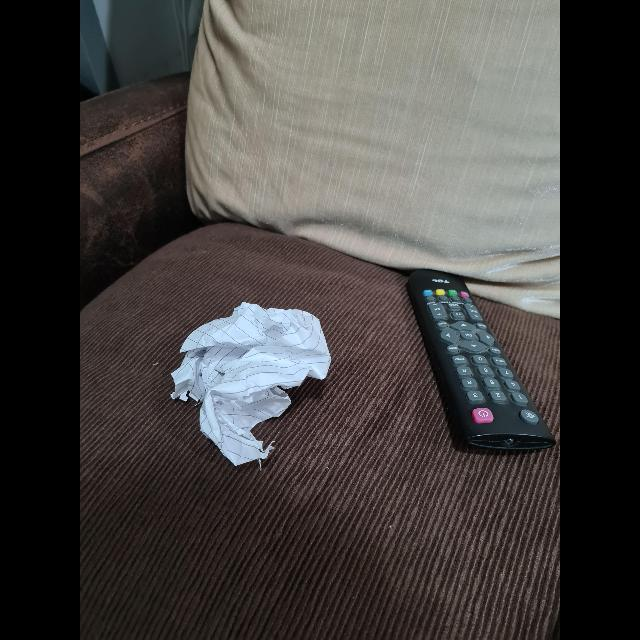scrap_paper: (168, 302, 330, 460)
